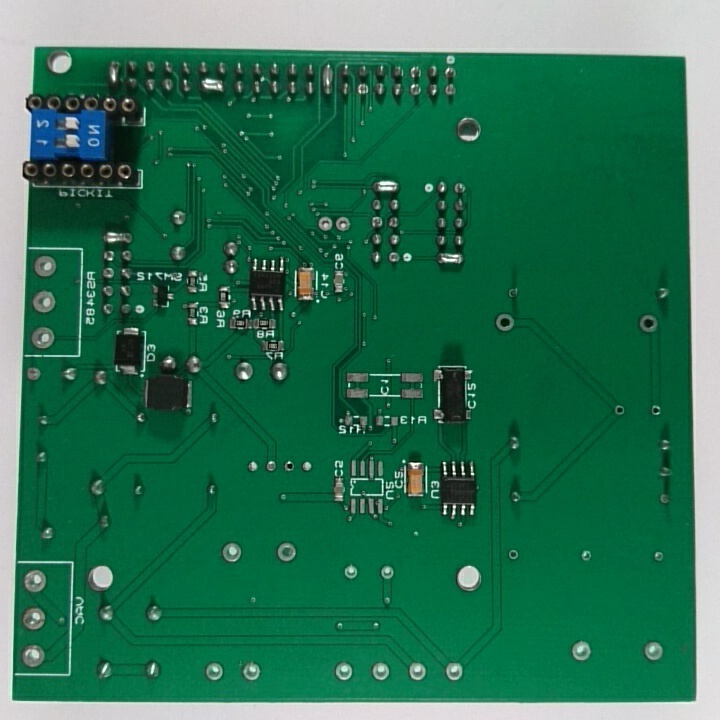F: (19, 566, 50, 595), (26, 324, 58, 352), (19, 605, 49, 634), (566, 636, 594, 666), (29, 252, 59, 279), (30, 288, 59, 315), (219, 538, 244, 568), (633, 311, 660, 338), (19, 643, 47, 669), (239, 657, 264, 686), (404, 658, 430, 685), (202, 659, 227, 686), (442, 659, 467, 686), (641, 638, 666, 665), (272, 540, 299, 565), (368, 660, 393, 686), (330, 660, 356, 684), (493, 312, 517, 336), (23, 364, 45, 386), (341, 565, 362, 585), (315, 212, 333, 233), (379, 563, 397, 584), (262, 457, 281, 476), (452, 179, 470, 198), (577, 547, 595, 566), (506, 283, 523, 303), (335, 217, 353, 235), (655, 491, 673, 509), (504, 546, 521, 564), (244, 459, 262, 476), (299, 459, 316, 476), (442, 64, 458, 82), (370, 215, 386, 233), (99, 266, 116, 282), (281, 458, 296, 476), (355, 81, 372, 96), (612, 401, 627, 418), (650, 549, 668, 563), (407, 65, 423, 80), (387, 249, 401, 266), (648, 404, 663, 419)
P: (199, 73, 229, 97), (370, 176, 404, 197), (100, 228, 136, 246), (435, 251, 467, 271), (319, 60, 335, 98), (105, 59, 124, 90)
